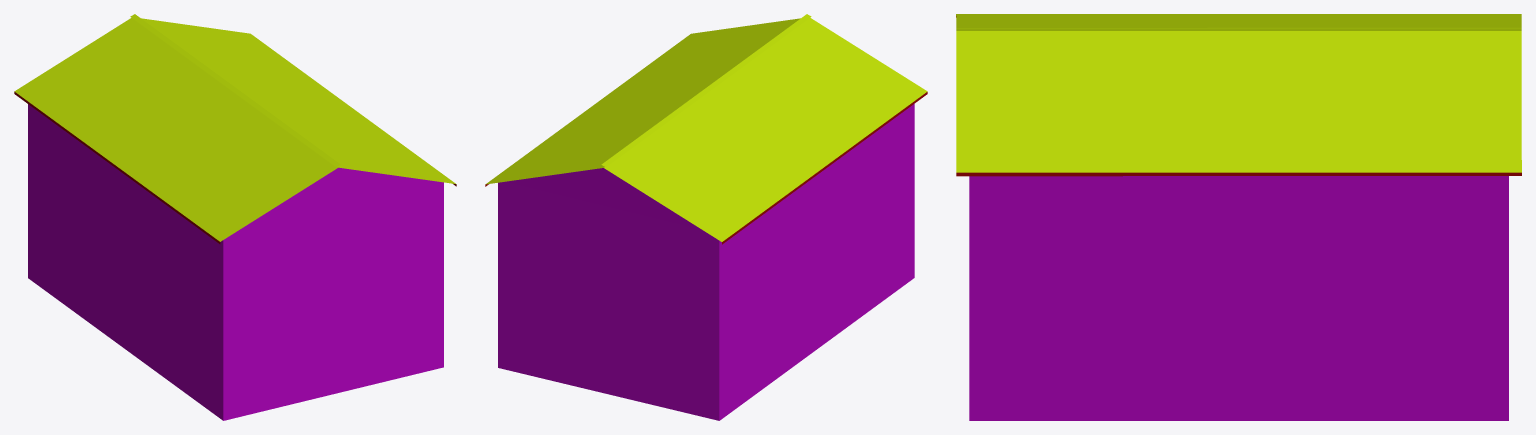
Rendered from niv_98.glb.
The picture shows the model from 3 angles, left to right: view 1: azimuth 30°, elevation 25°; view 2: azimuth 150°, elevation 25°; view 3: azimuth 270°, elevation 25°; orthographic projection. The views are drawn at different scales.
Parts seen in each view (by area): view 1: niv_98; view 2: niv_98; view 3: niv_98.
Part boxes in pixels (left/top/right/bottom): niv_98: left=14, top=14, right=456, bottom=420; niv_98: left=485, top=14, right=927, bottom=420; niv_98: left=956, top=14, right=1521, bottom=420.
Size of the model in its own units: 11.7 by 10.99 by 17.63.
